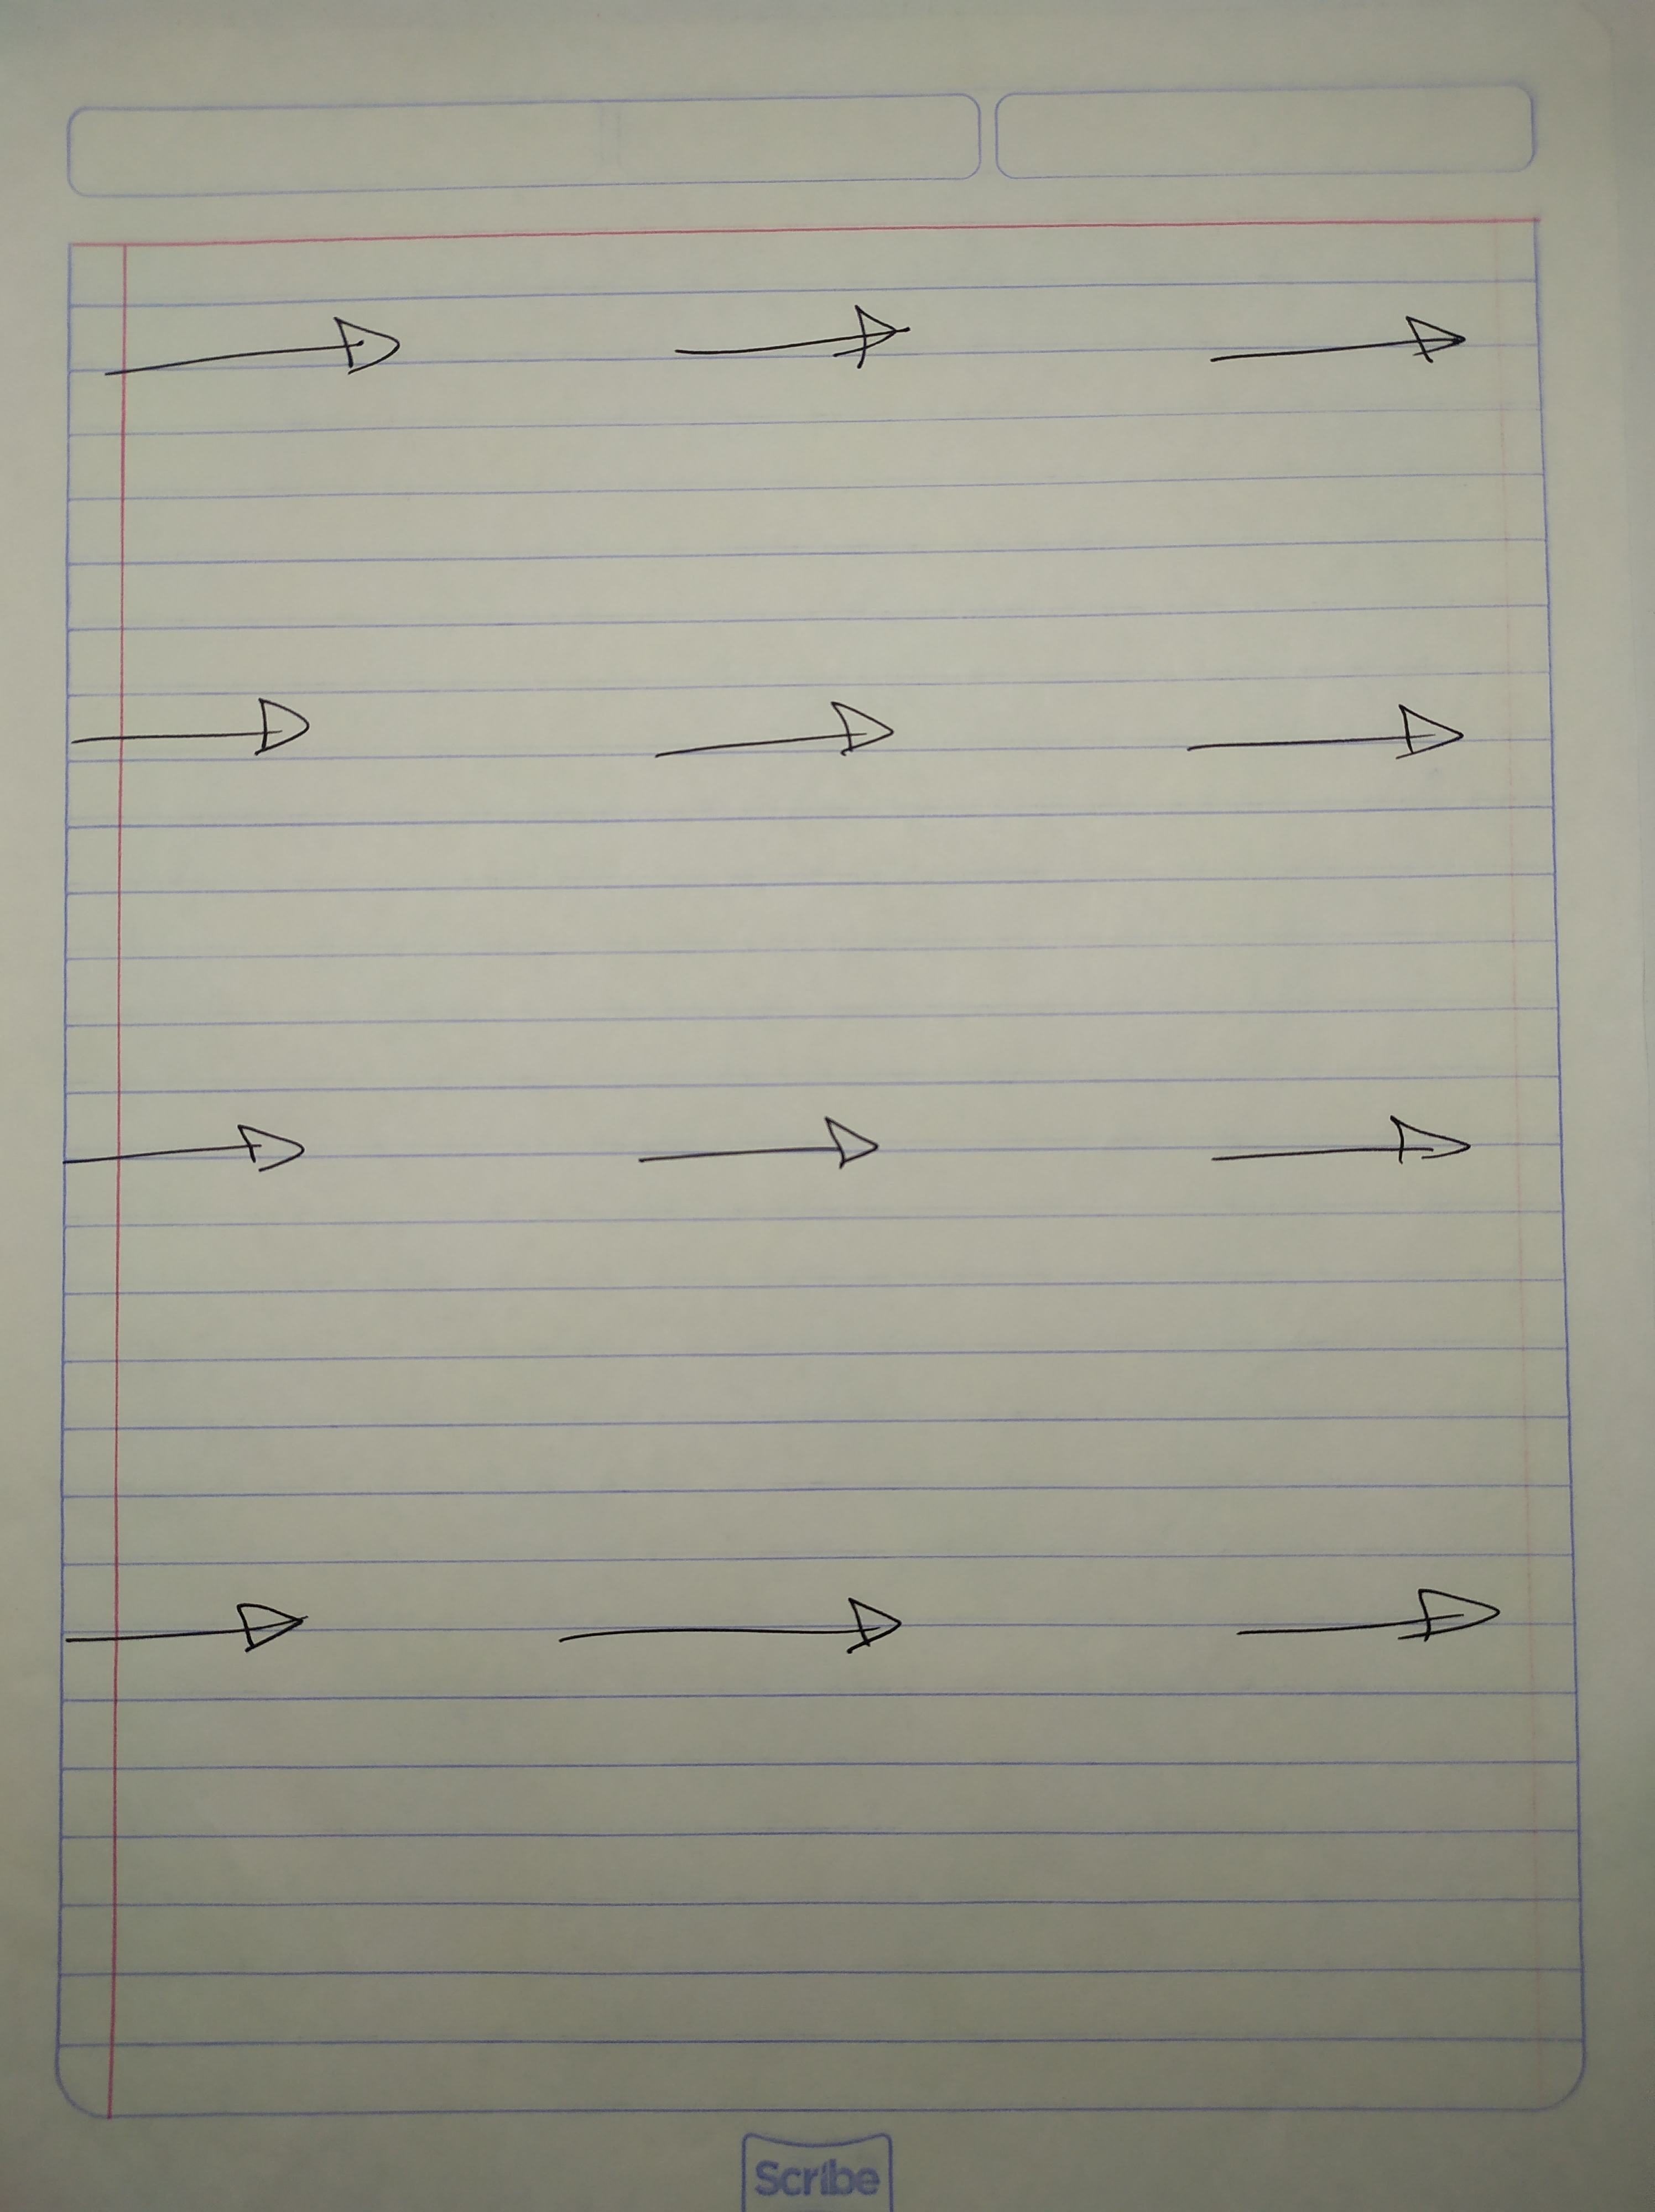arrow_line_right: (530, 1562, 918, 1689), (97, 295, 438, 403), (596, 1093, 918, 1201), (1215, 1559, 1528, 1668), (1187, 1098, 1488, 1208), (38, 1098, 334, 1209), (1158, 678, 1483, 778), (1184, 295, 1497, 394), (56, 686, 367, 785), (647, 295, 956, 394), (42, 1585, 330, 1691), (621, 686, 930, 784)
